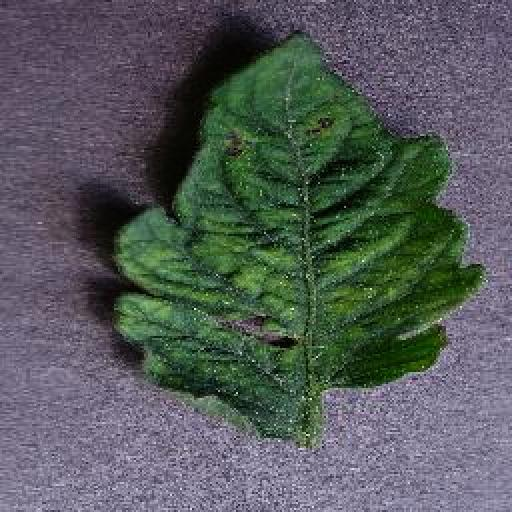disease_tomato: (113, 25, 487, 439)
